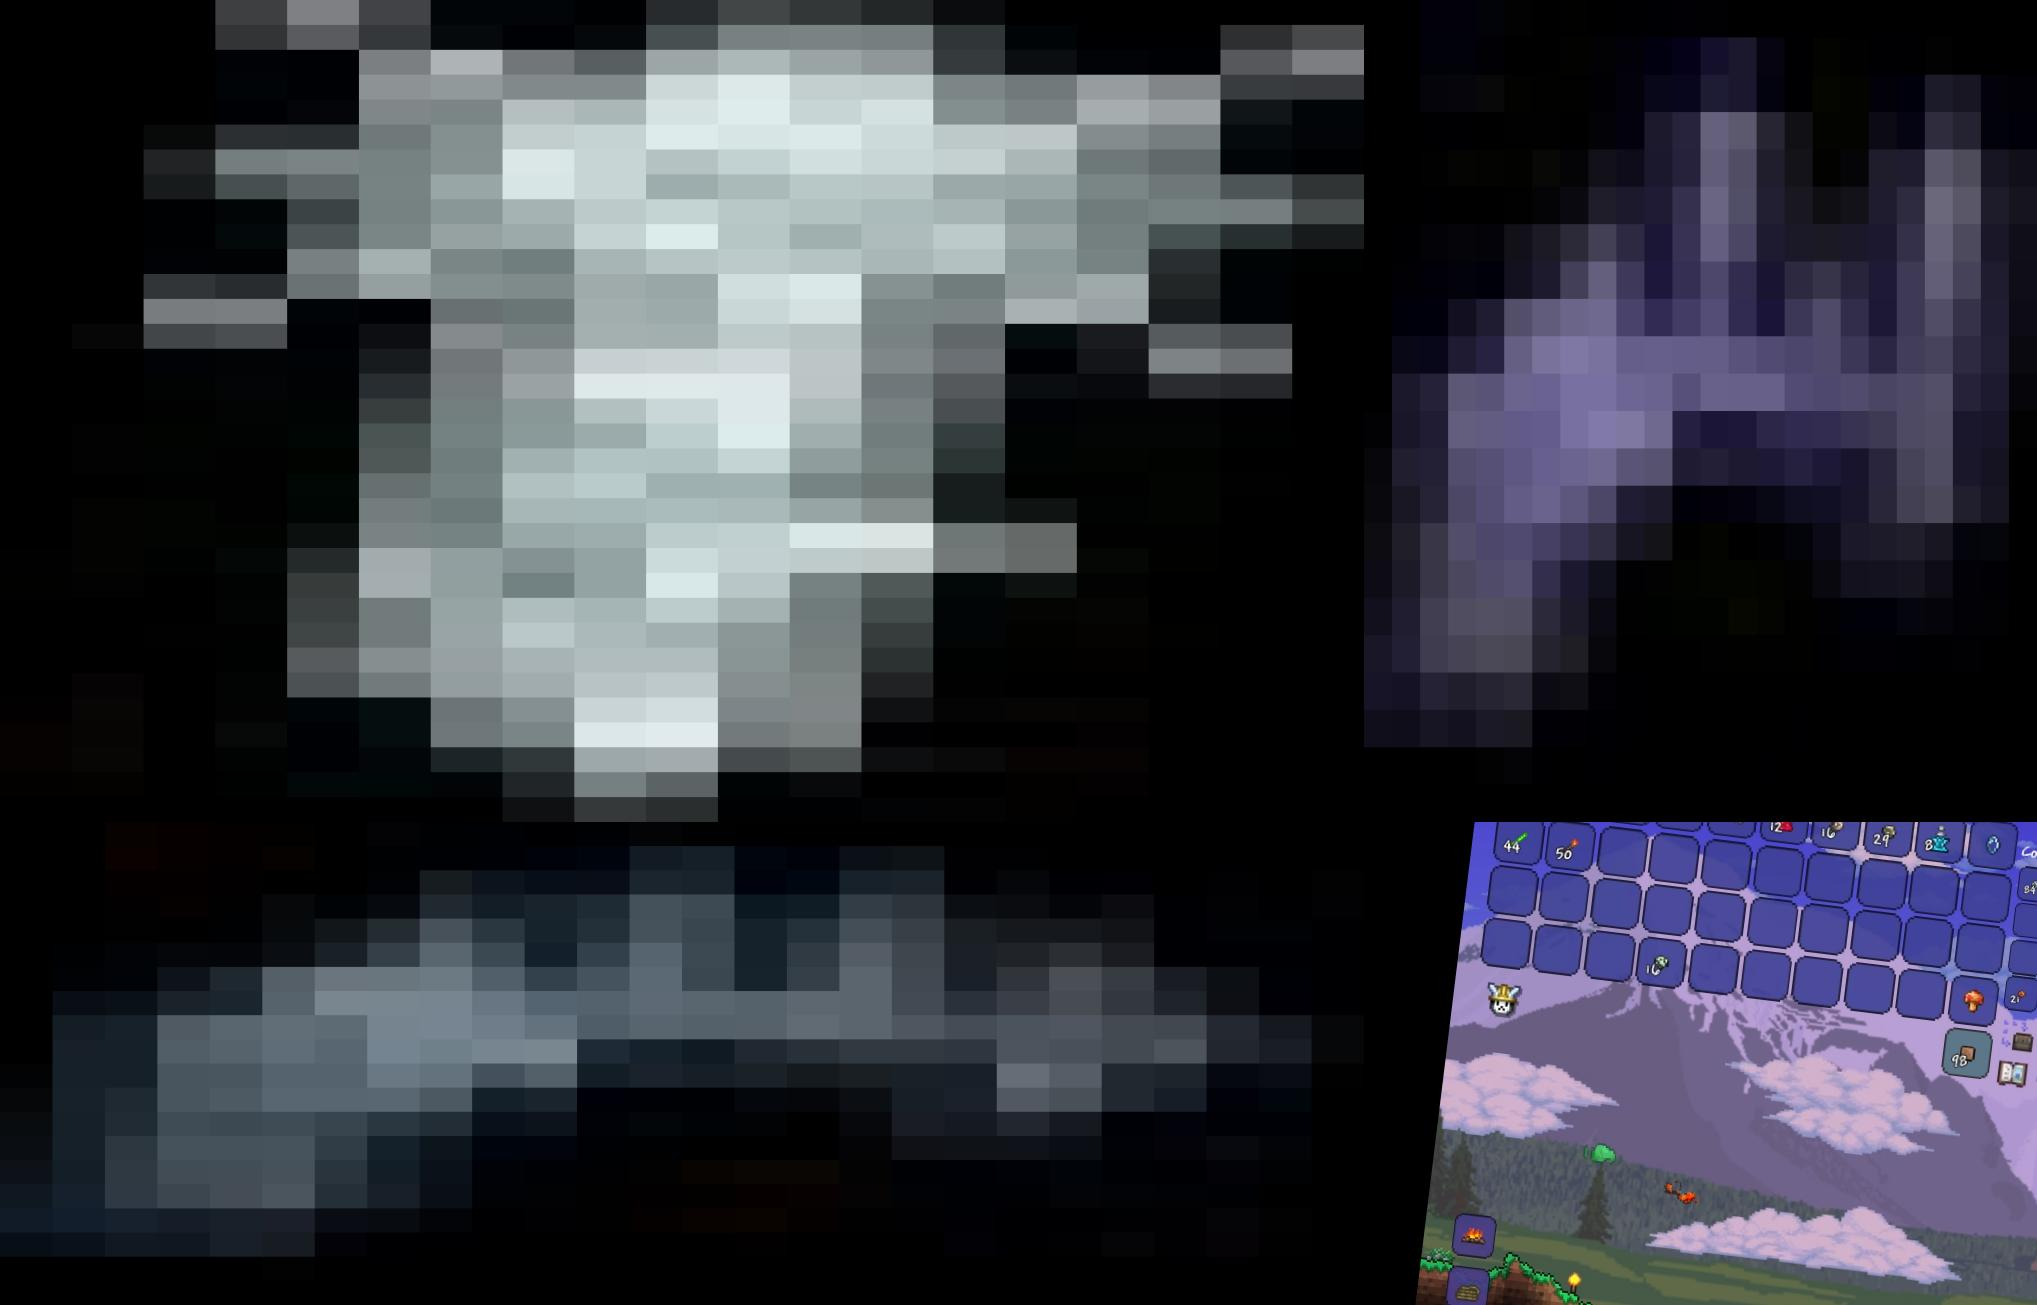helmet: (0, 822, 1364, 1305), (1364, 0, 2037, 822)
potion: (1774, 822, 1796, 834)
rope: (0, 0, 1364, 822)
